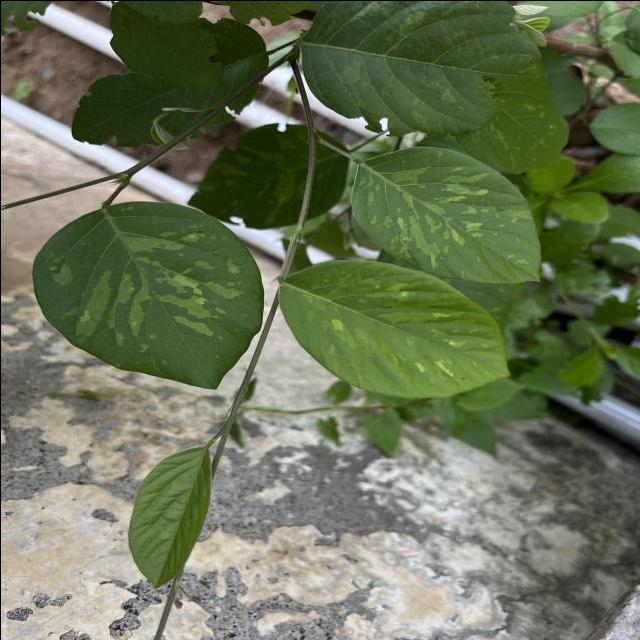Desmodium gangeticum: (27, 197, 266, 393), (274, 256, 518, 402)
